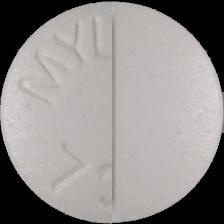0378-0731: (0, 0, 224, 224)
